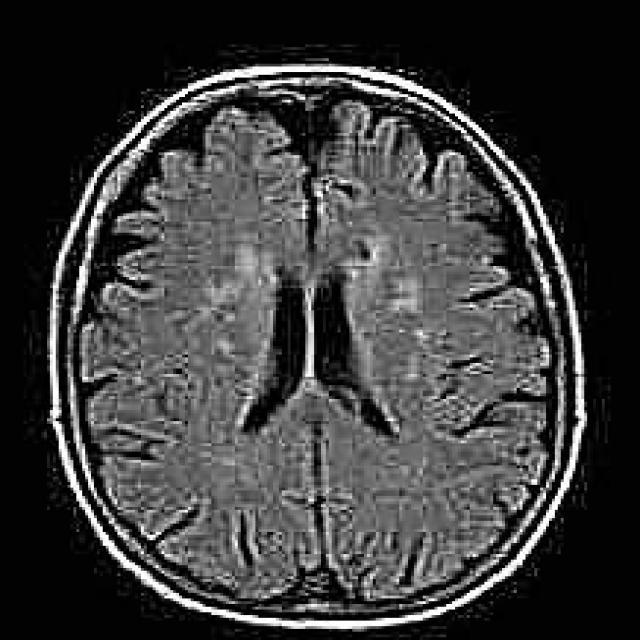notumor: (47, 66, 590, 637)
